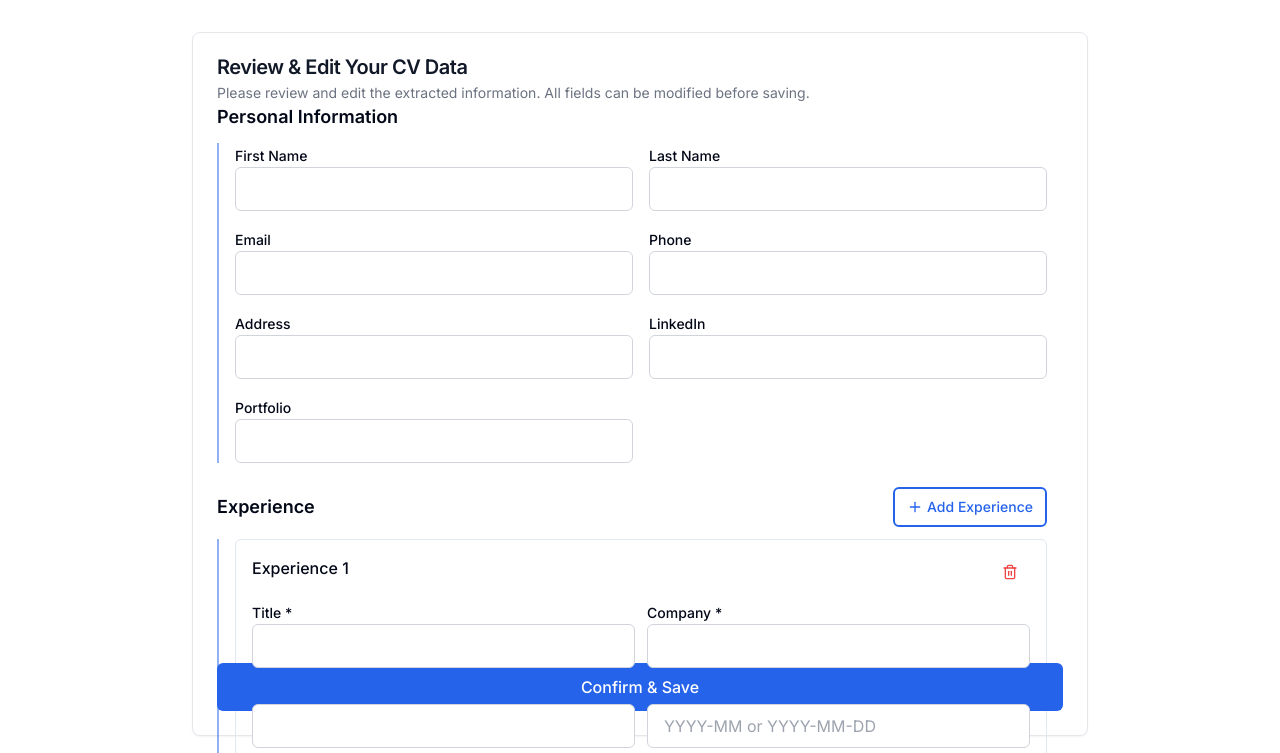
Scenario: CVParseConfirmation Component › validates required fields on submit
The image size is (1280, 753).
Expected: the heading "Review & Edit Your CV Data" is shown, [217,55,467,79]
Click the button "Confirm & Save": (640, 687) [217,663,1063,711]
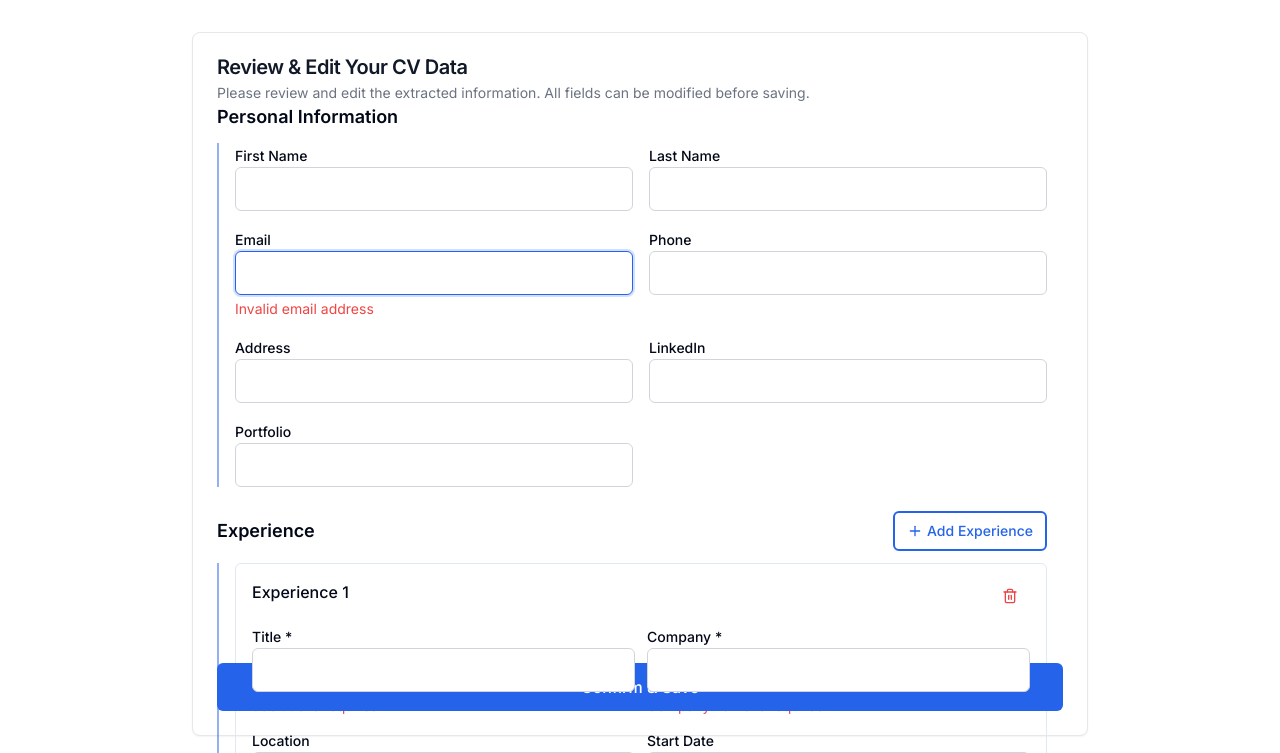
Expected: the text "Job title is required" is shown, [252,697,379,714]
Expected: the text "Company name is required" is shown, [647,697,825,714]
